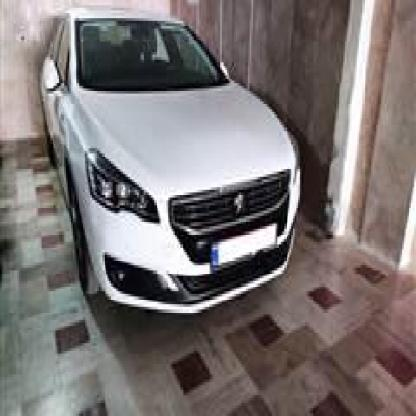Car: (19, 0, 305, 325)
